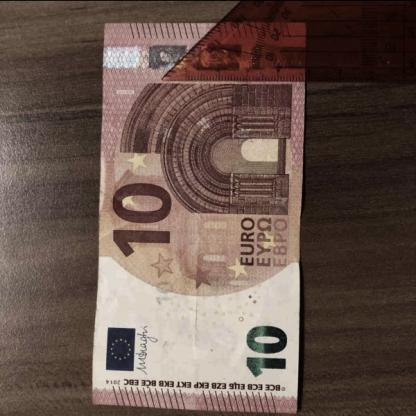euro_banknote: (4, 113, 397, 319)
